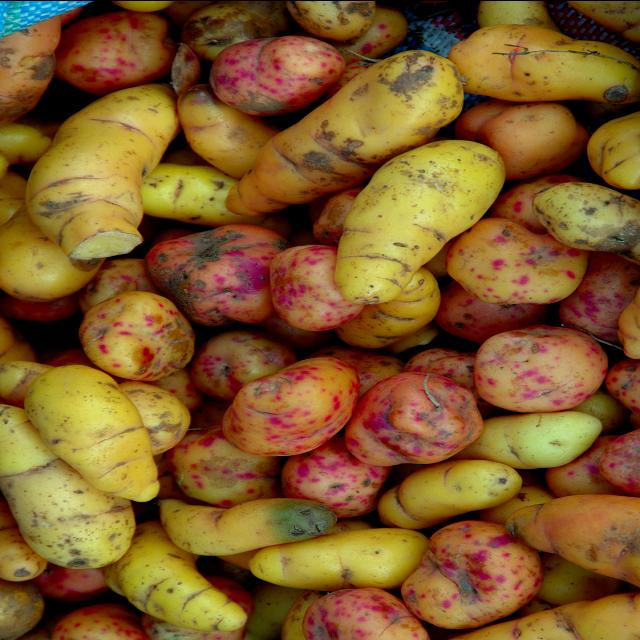potato: (332, 140, 502, 300), (24, 360, 160, 508), (252, 525, 422, 589), (470, 404, 600, 464)
